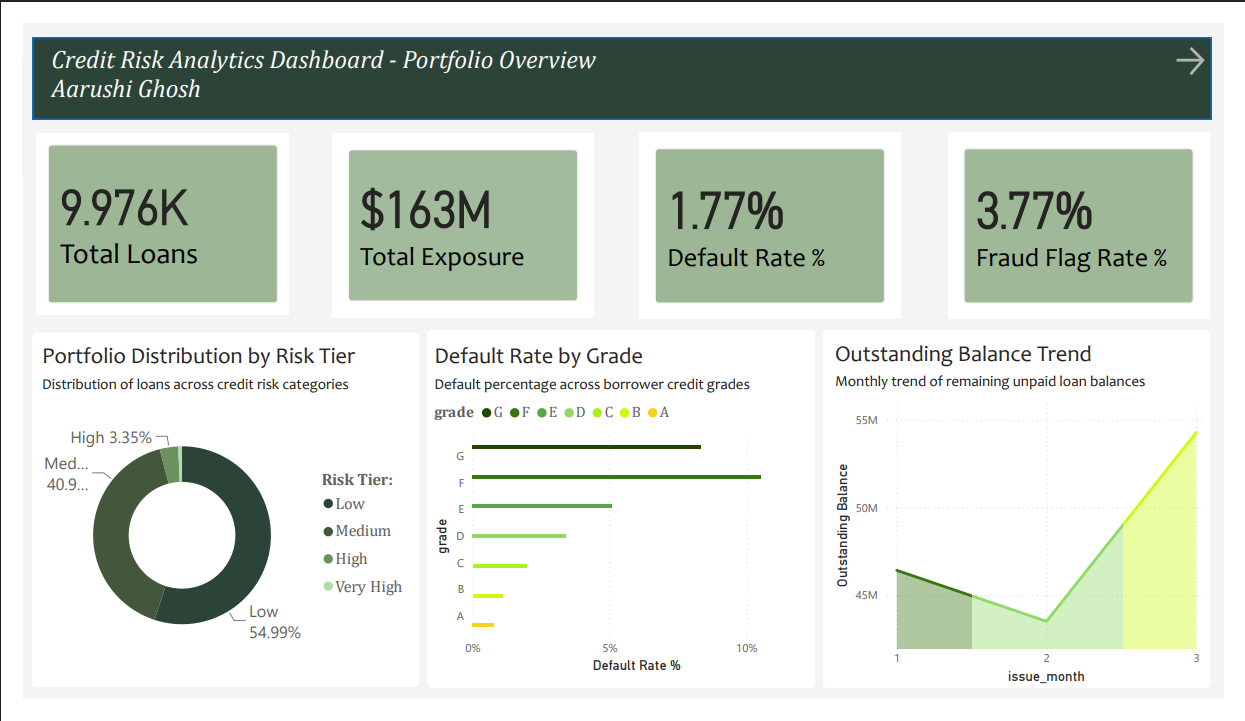

This screenshot's page, from the dashboard's own definition file:
{"tool":"powerbi","page":{"name":"Portfolio Overview","canvas":[1280,720],"ordinal":0},"visuals":[{"type":"shape","box":[852.5,326.2,413.8,381.2],"z":0},{"type":"shape","box":[10,328.6,412.9,378.6],"z":1000},{"type":"shape","box":[431.2,326.2,413.8,381.2],"z":2000},{"type":"shape","box":[11,15.1,1255.6,86.4],"z":3000},{"type":"cardVisual","fields":{"Data":["_Measures.Total Loans"]},"box":[10.2,112.3,279.1,202.6],"z":4000},{"type":"cardVisual","fields":{"Data":["_Measures.Default Rate %"]},"box":[657,115.7,279.1,199.1],"z":5000},{"type":"cardVisual","fields":{"Data":["_Measures.Total Exposure"]},"box":[330.2,117.4,279.1,195.7],"z":6000},{"type":"cardVisual","fields":{"Data":["_Measures.Fraud Flag Rate %"]},"box":[985.5,115.7,279.1,199.1],"z":7000},{"type":"textbox","box":[25.7,17.1,1100,85.7],"z":8000},{"type":"donutChart","title":"Portfolio Distribution by Risk Tier","fields":{"Category":["public dim_grade.risk_tier"],"Y":["_Measures.Total Loans"]},"box":[15.7,338.6,402.9,358.6],"z":9000},{"type":"clusteredBarChart","title":"Default Rate by Grade","fields":{"Category":["public dim_grade.grade"],"Y":["_Measures.Default Rate %"],"Series":["public dim_grade.grade"]},"box":[434.3,338.6,412.9,358.6],"z":10000},{"type":"areaChart","title":"Outstanding Balance Trend","fields":{"Category":["public dim_time.issue_month"],"Y":["_Measures.Outstanding Balance"]},"box":[861.2,336.2,405,371.2],"z":11000},{"type":"actionButton","box":[1224,20,42,40],"z":11001}]}

Visuals, with their boxes in screenshot pixels (x1, y1, x2, y2), scaled from the page's 1280x720 canvas onto the 1245x721 screenshot:
shape: <region>829, 327, 1232, 708</region>
shape: <region>10, 329, 411, 708</region>
shape: <region>419, 327, 822, 708</region>
shape: <region>11, 15, 1232, 102</region>
cardVisual - _Measures.Total Loans: <region>10, 112, 281, 315</region>
cardVisual - _Measures.Default Rate %: <region>639, 116, 911, 315</region>
cardVisual - _Measures.Total Exposure: <region>321, 118, 593, 314</region>
cardVisual - _Measures.Fraud Flag Rate %: <region>959, 116, 1230, 315</region>
textbox: <region>25, 17, 1095, 103</region>
"Portfolio Distribution by Risk Tier" donutChart: <region>15, 339, 407, 698</region>
"Default Rate by Grade" clusteredBarChart: <region>422, 339, 824, 698</region>
"Outstanding Balance Trend" areaChart: <region>838, 337, 1232, 708</region>
actionButton: <region>1191, 20, 1231, 60</region>
